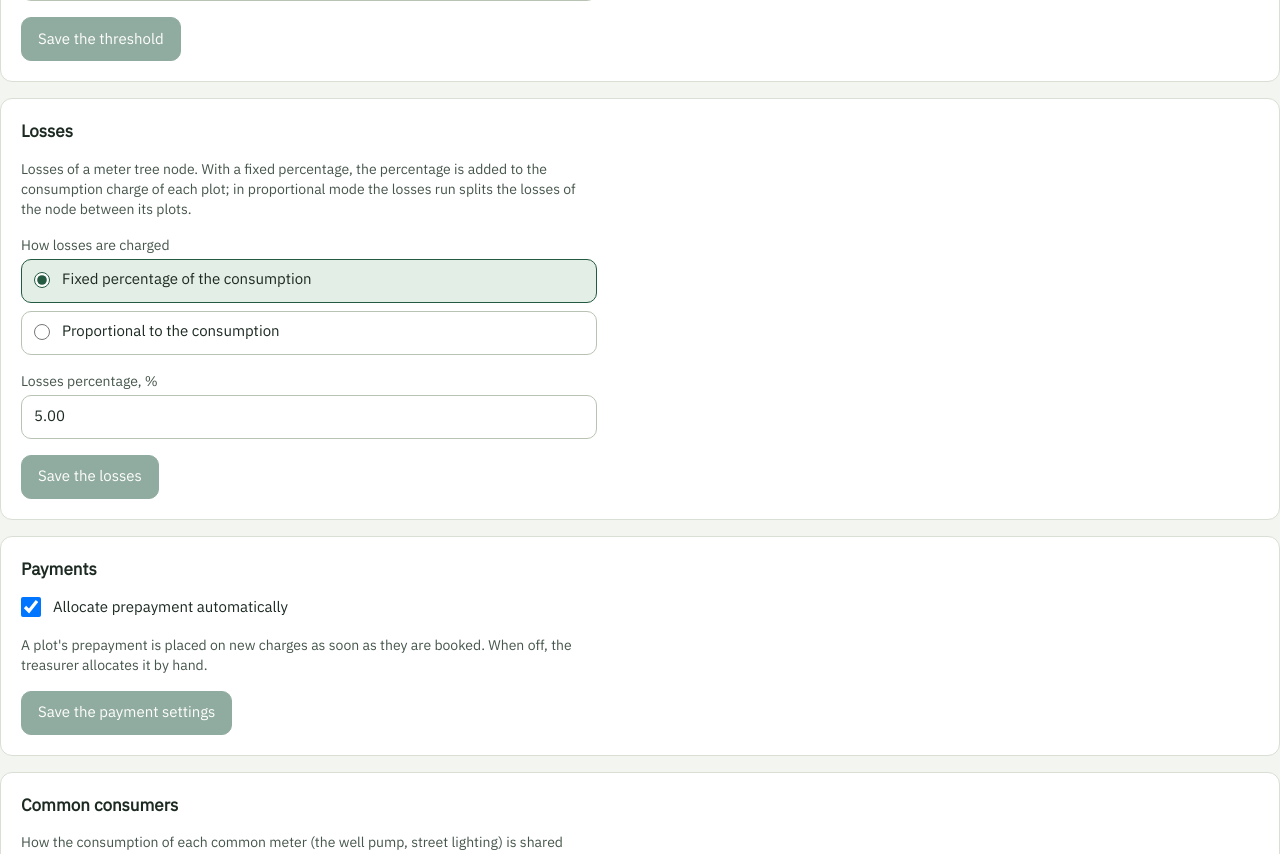
Test: SettingsPage › losses › saves the mode and the percentage as a partial update
(page scrolled)
Expected: the button "Save the losses" is disabled, [21, 454, 159, 498]
Replace the text in the field labelled "Losses percentage, %" with "7,5": (309, 416) [21, 394, 597, 438]
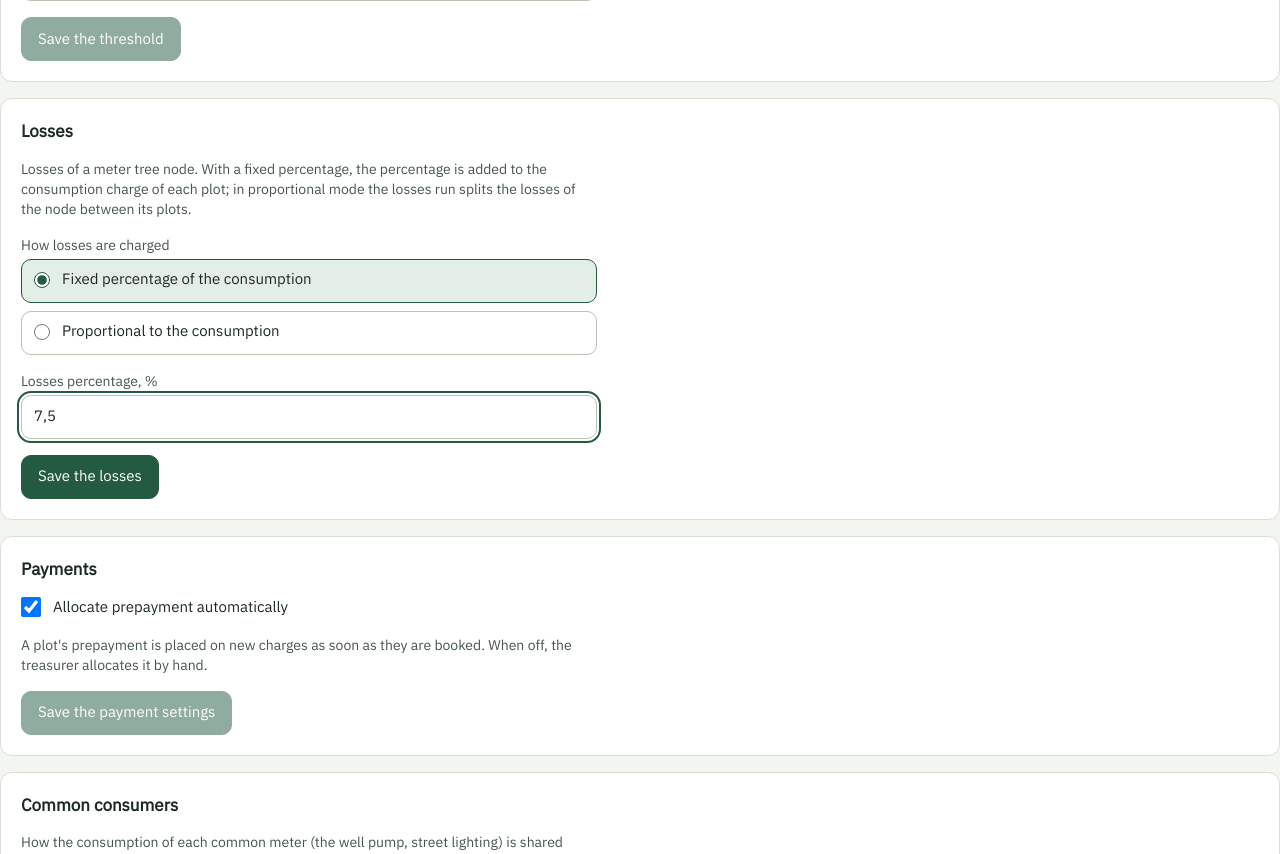
Click the button "Save the losses": click(90, 476) [21, 454, 159, 498]
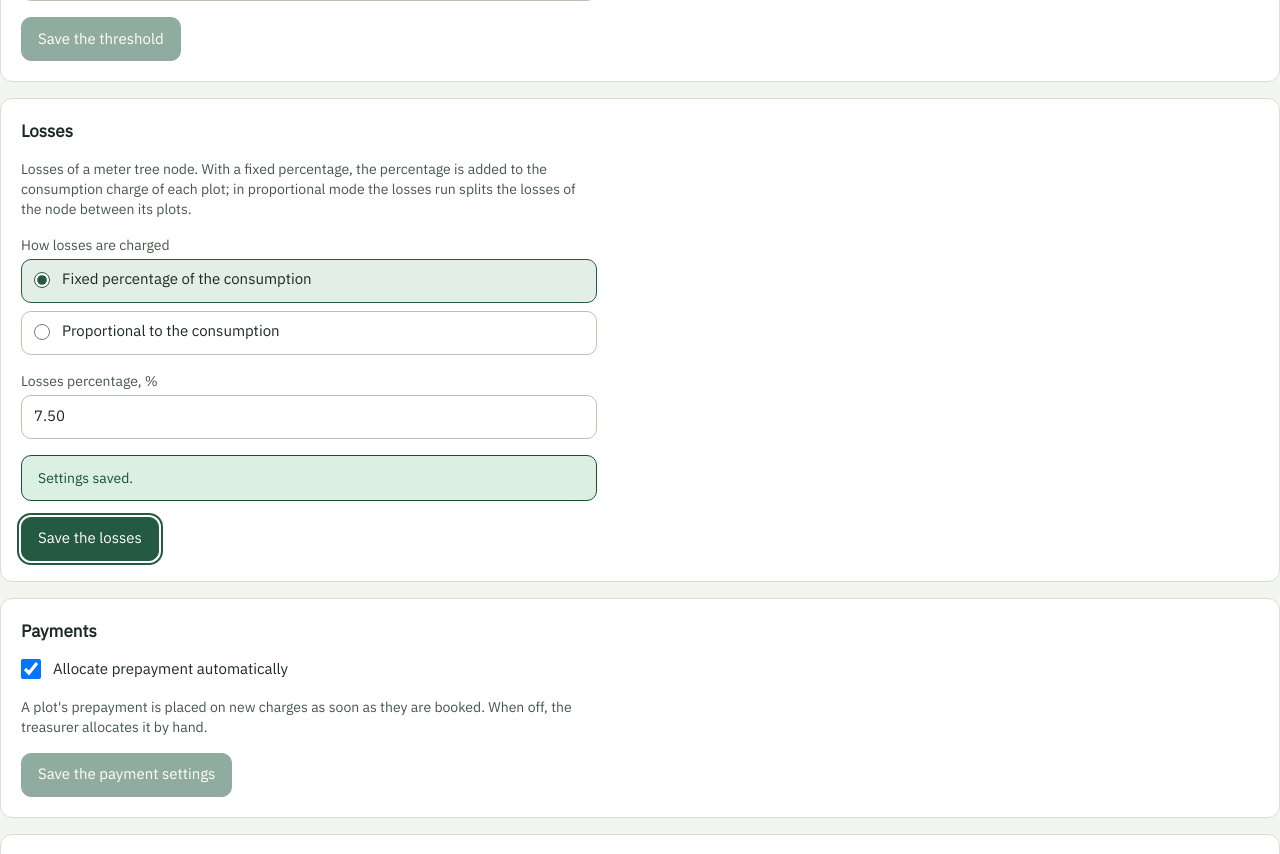
Result: the text "Settings saved." is shown at [21, 454, 597, 500]
